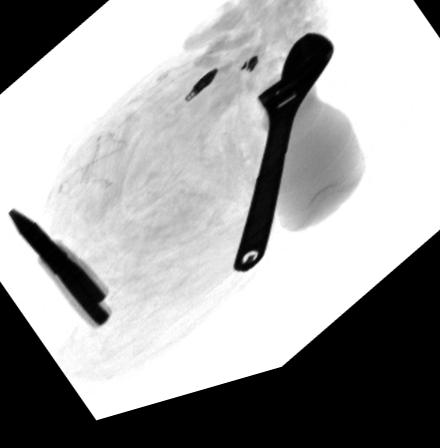Pliers: (0, 202, 115, 340)
Wrench: (227, 47, 336, 284)
